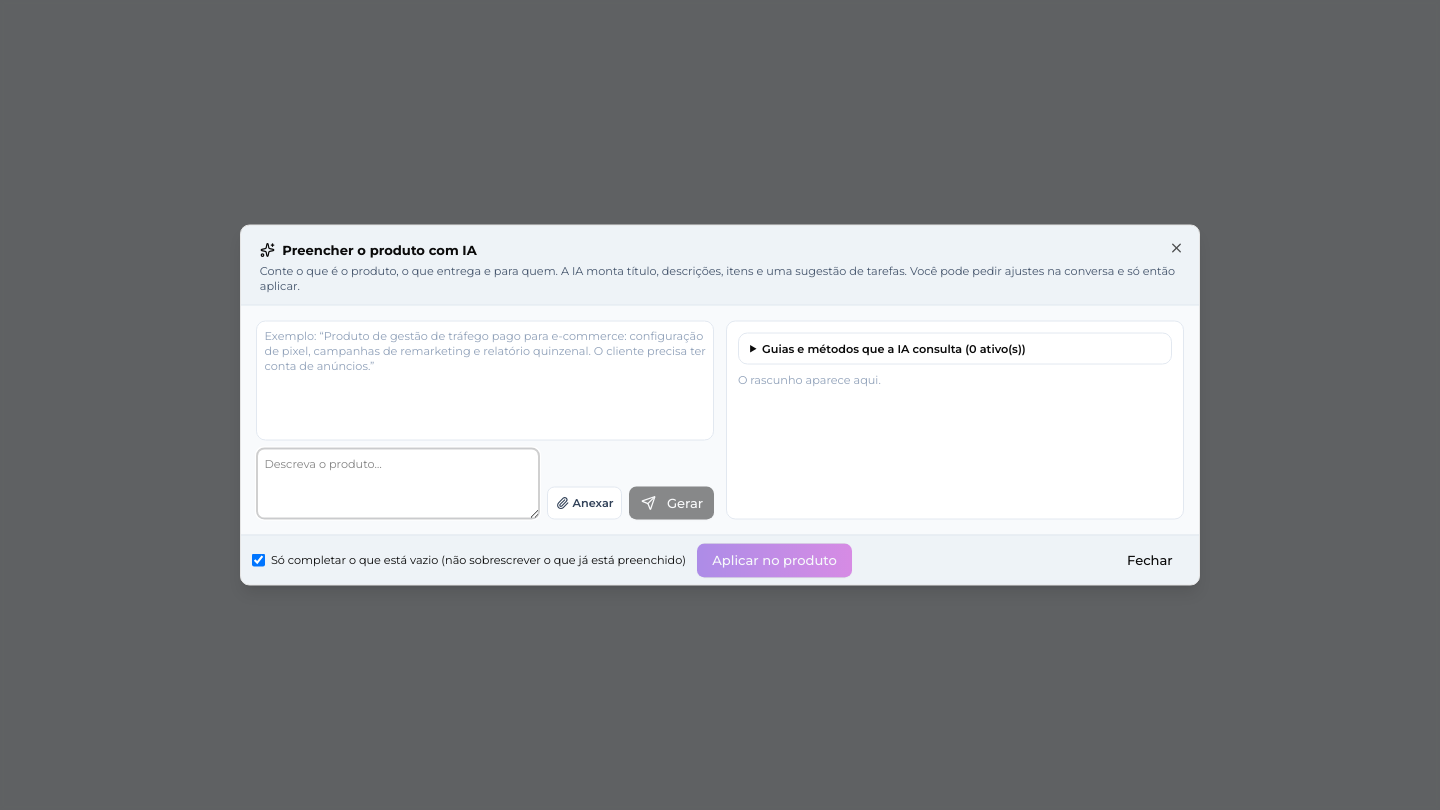
Test: IA que preenche o produto (P-8) › erro da IA aparece em destaque e não derruba a conversa
Type "Produto X" into the text box named "Mensagem para a IA" at (398, 484), box [256,448,540,520]
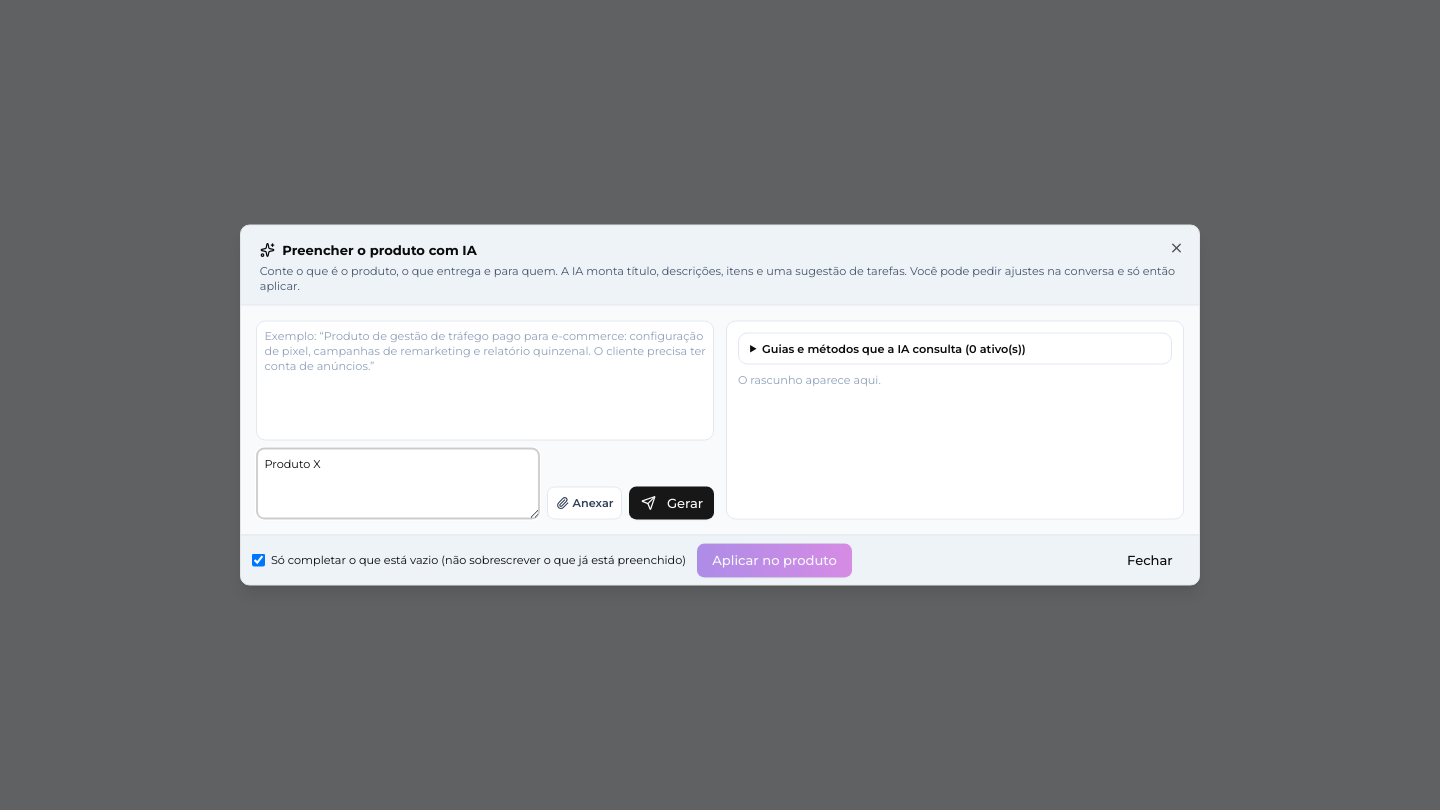
Click the button "Gerar" at (672, 503), box [630,486,714,520]
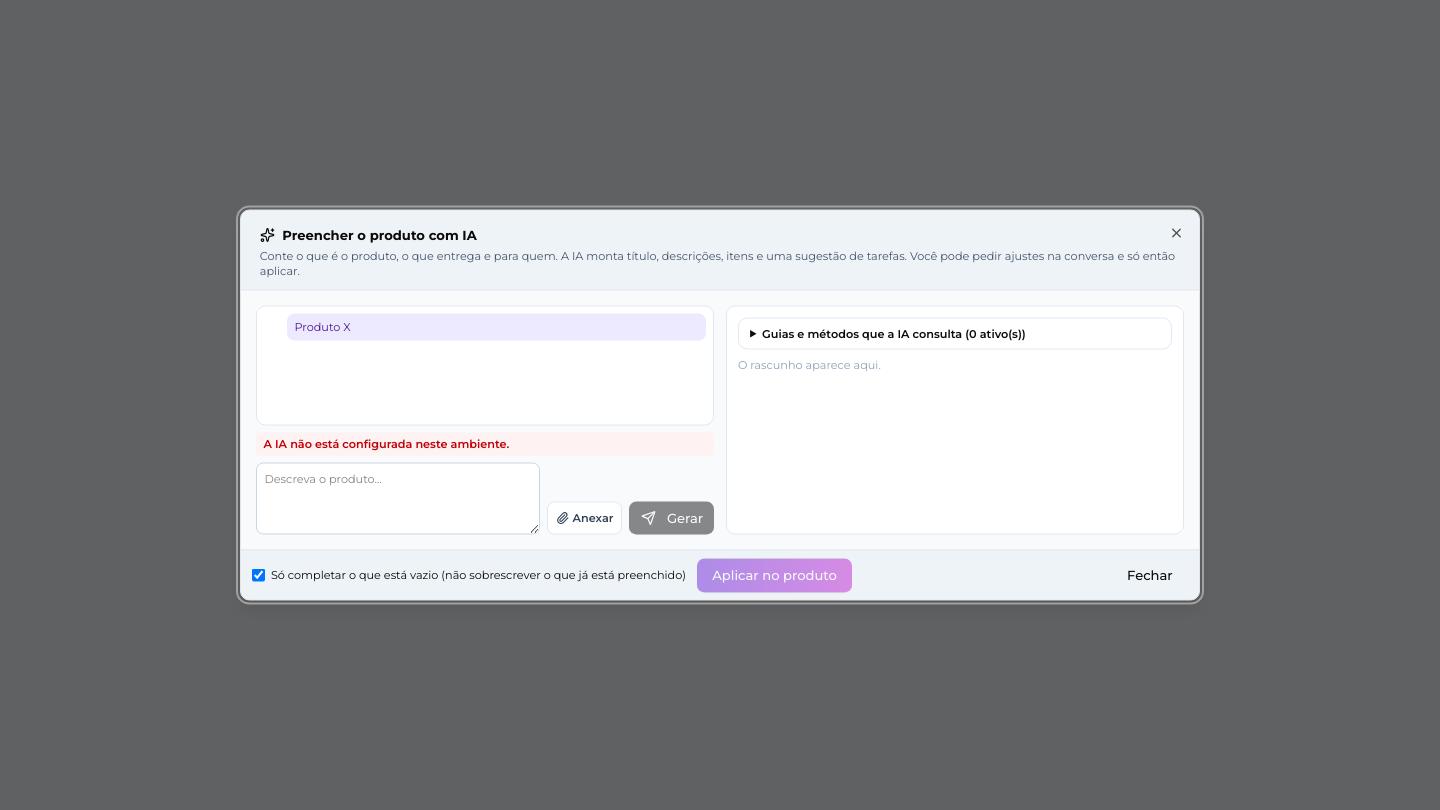
Expected: the button with test id "apply-draft" is disabled, [697,558,852,592]
Now the message shows "não está configurada", box [264,436,509,450]
